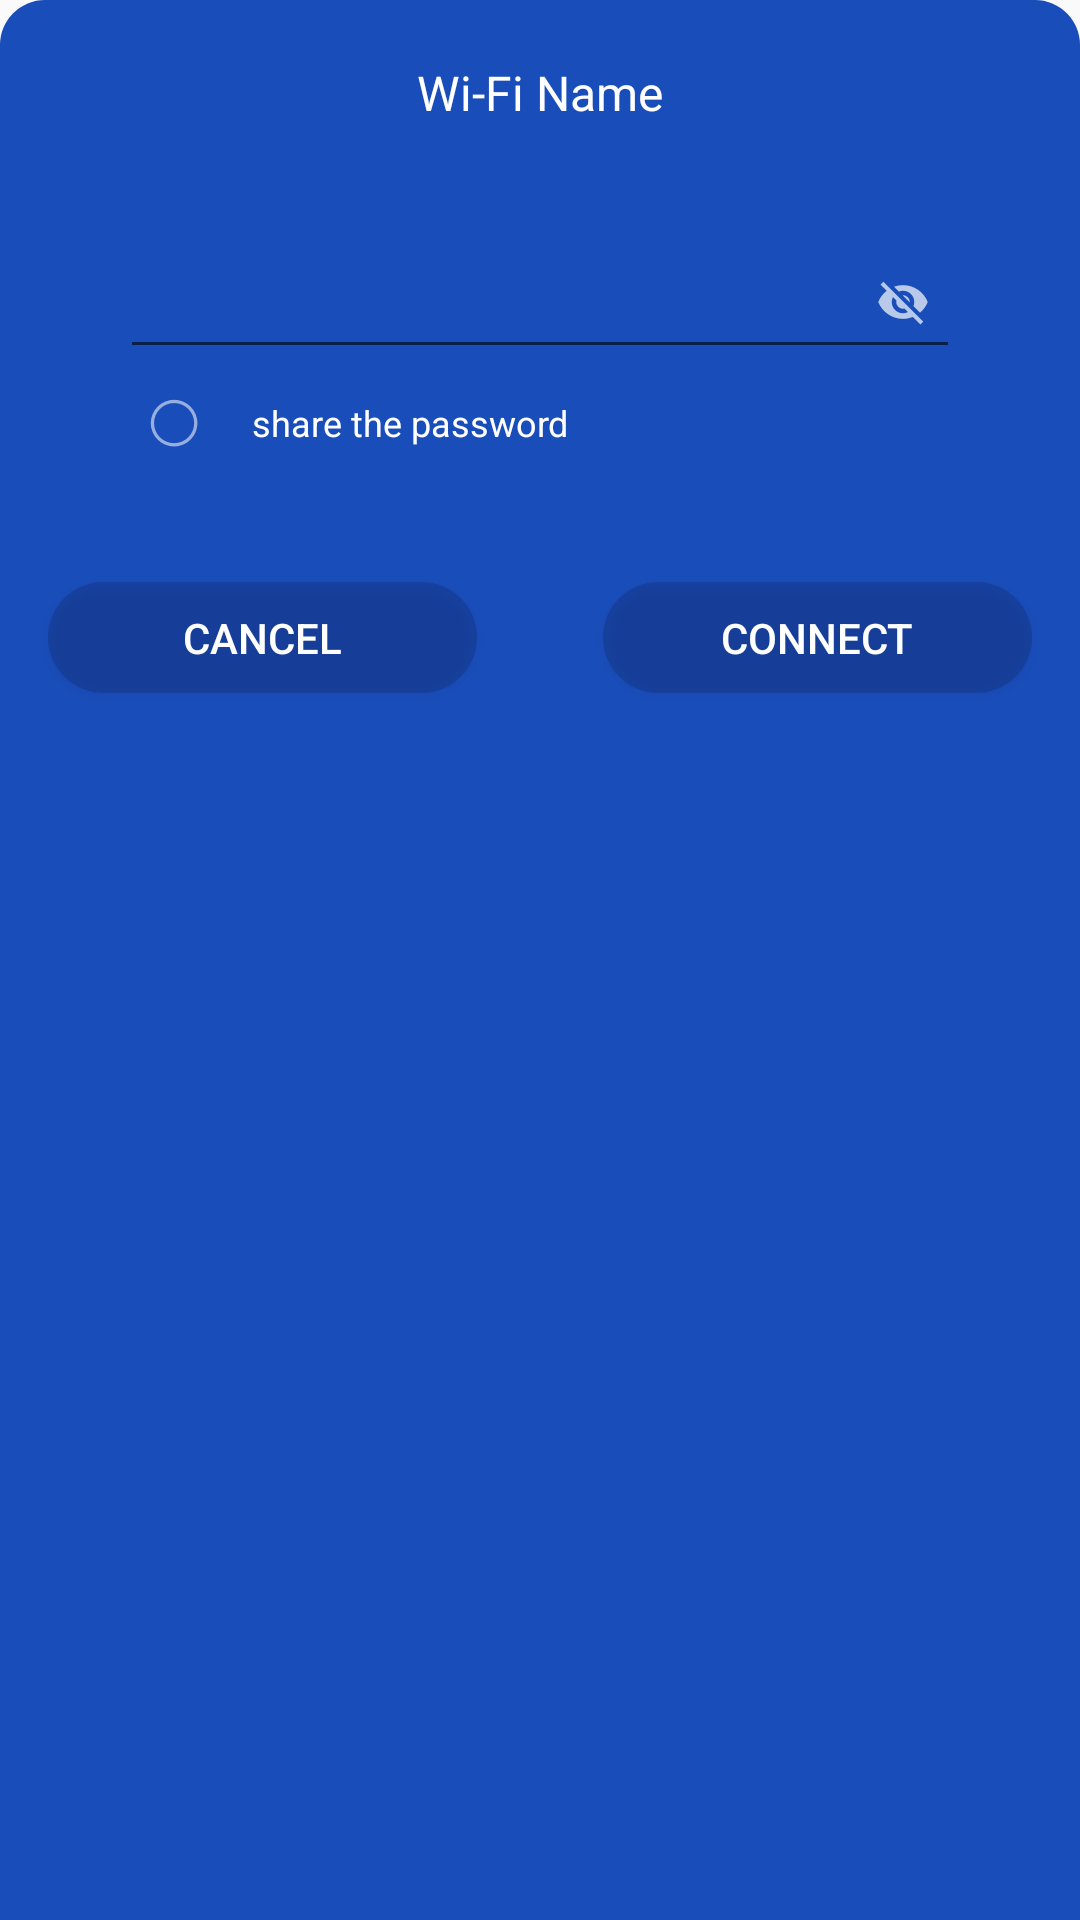

Locate icon controls on the screen. Image size 1080w x 1920h, boxes as (x1, y1, x2, y2).
look: (878, 282, 928, 325)
